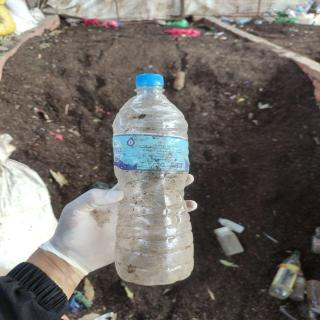Plastic-bottle: (104, 68, 200, 289)
